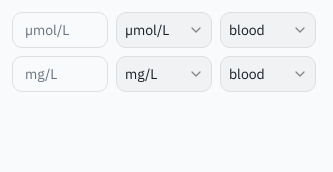
it: DrugInlineConverter › surfaces the applied B/P midpoint and the converted output range
Expected: the text "ratio applied" is not shown
// blood µmol/L → plasma µmol/L so the range stays in molar units.
Step 1. Select "µmol/L" in the dropdown named "to unit" → point(164, 74), box [116, 56, 212, 92]
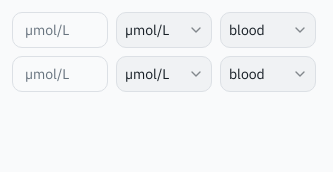
Step 2. Select "plasma/serum" in the dropdown named "to matrix" → point(268, 74), box [220, 56, 316, 92]
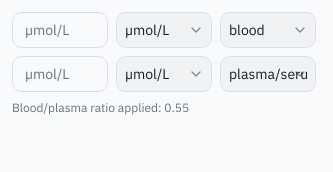
Step 3. Type "109" into the field named "from concentration" → point(60, 30), box [12, 12, 108, 48]
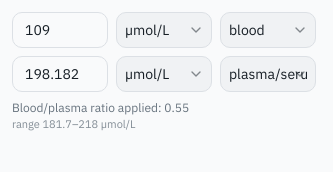
Result: the text "Blood/plasma ratio applied: 0.55" is shown at [12, 100, 189, 115]
Result: the text "range 181.7–218 µmol/L" is shown at [12, 117, 136, 131]
